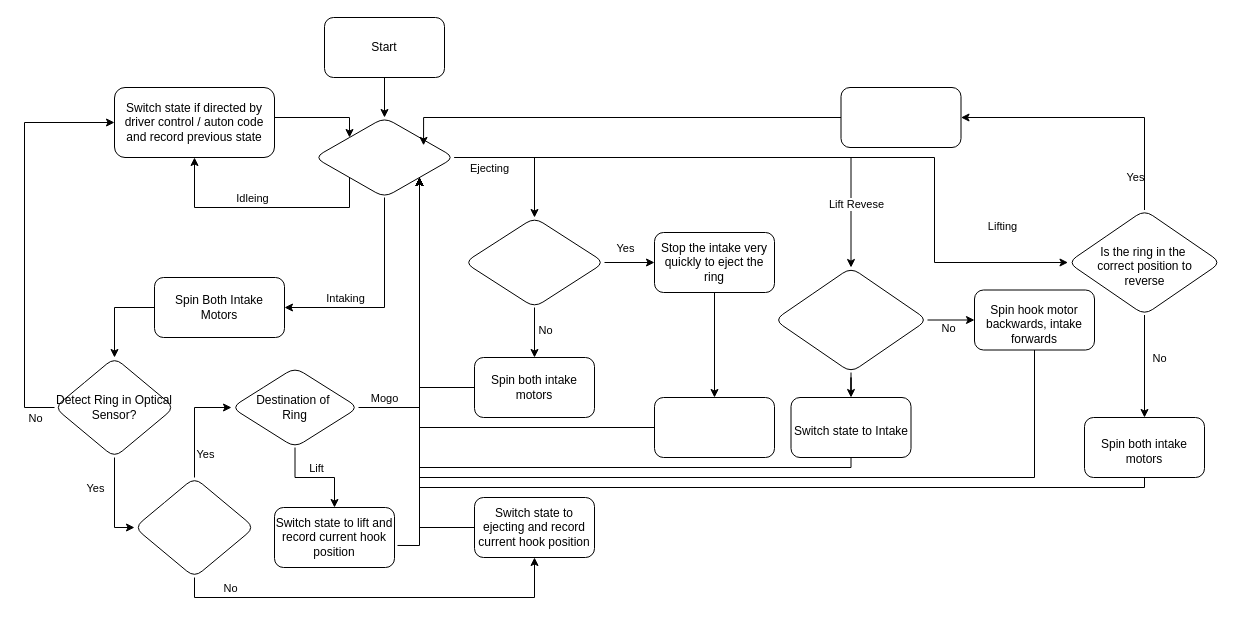
This 1239x623 diagram has some shape labels left out. Here are the shapes that lost their labels. From the top down, the box of each, then its label:
(840, 86, 961, 148): Set State to Lift Reverse
(314, 116, 454, 198): Current State
(464, 216, 604, 308): Is the ring in the ejecting position?
(774, 266, 928, 372): Did the ring get deposited in the lift
(654, 396, 774, 458): Switch state to intaking
(134, 476, 254, 578): Does ring color match filter?
